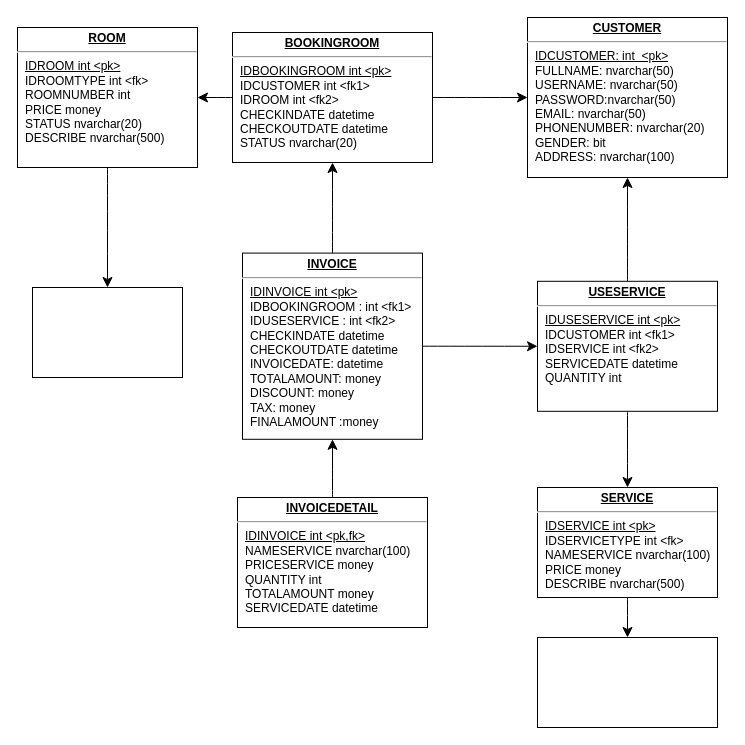
Image size: 745x745. Some labels were removed from this diagram. Each missing label, with the box of its shape:
ROOMTYPE IDROOMTYPE int <pk> TYPENAME nvarchar(20) DESCRIBE nvarchar(500): (32, 286, 182, 378)
SERVICETYPE IDSERVICETYPE int <pk> TYPENAME nvarchar(20) DESCRIBE nvarchar(500): (536, 636, 718, 728)
